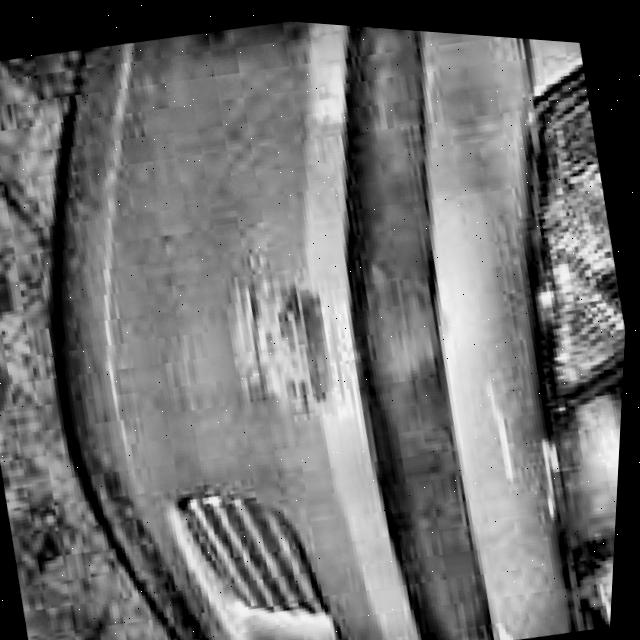bumper_scratch: (220, 265, 336, 420)
